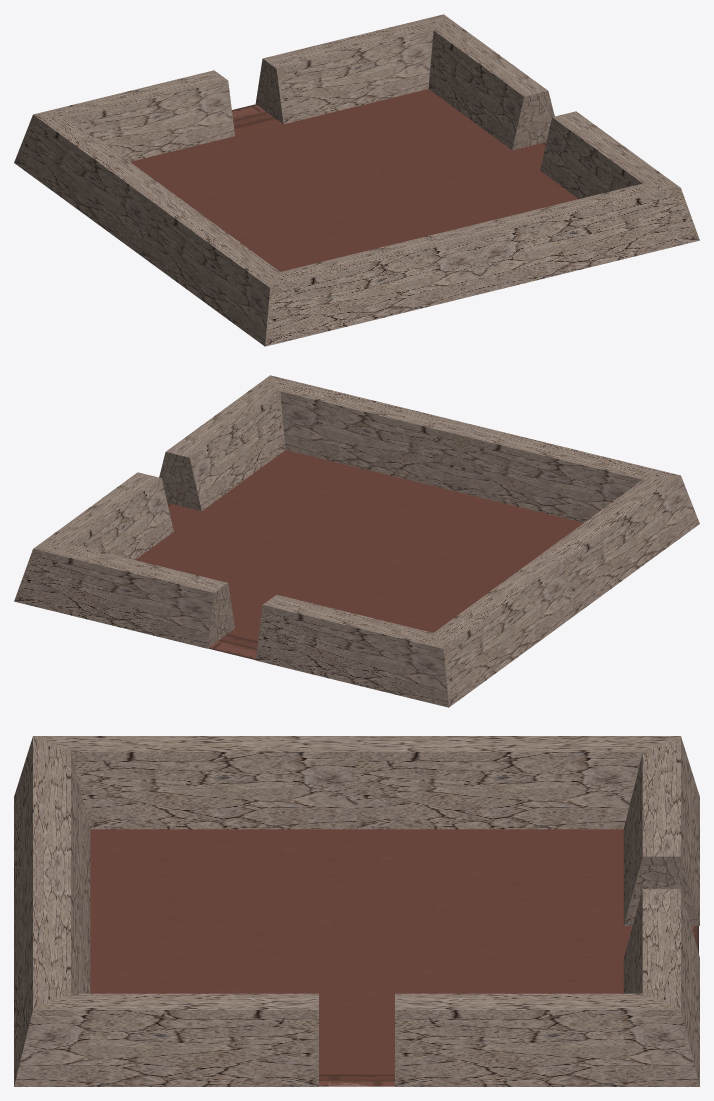
The model's file is sala_8.obj.
The picture shows the model from 3 angles, top to bottom: view 1: azimuth 30°, elevation 25°; view 2: azimuth 150°, elevation 25°; view 3: azimuth 270°, elevation 25°; orthographic projection. The views are drawn at different scales.
Visible parts, largest first — view 1: Ground_Plane, Wall.005_Cube.002, Wall.002_Cube.014, Wall.007_Cube.017, Wall.001_Cube.012, Wall.003_Cube.010, Wall.000_Cube.011, Wall.006_Cube.016, Wall.004_Cube.015; view 2: Ground_Plane, Wall.007_Cube.017, Wall.000_Cube.011, Wall.005_Cube.002, Wall.002_Cube.014, Wall.003_Cube.010, Wall.001_Cube.012, Wall.004_Cube.015, Wall.006_Cube.016; view 3: Ground_Plane, Wall.004_Cube.015, Wall.006_Cube.016, Wall.003_Cube.010, Wall.001_Cube.012, Wall.000_Cube.011, Wall.002_Cube.014, Wall.005_Cube.002, Wall.007_Cube.017.
Boxes of the visible parts, x1,y1,x2,y2 form: Ground_Plane: [130, 89, 578, 271]; Wall.005_Cube.002: [462, 183, 699, 293]; Wall.002_Cube.014: [265, 228, 482, 346]; Wall.007_Cube.017: [255, 14, 443, 124]; Wall.001_Cube.012: [14, 114, 175, 254]; Wall.003_Cube.010: [139, 195, 279, 346]; Wall.000_Cube.011: [33, 70, 234, 161]; Wall.006_Cube.016: [428, 14, 554, 150]; Wall.004_Cube.015: [540, 111, 680, 198]; Ground_Plane: [135, 450, 583, 659]; Wall.007_Cube.017: [14, 544, 234, 648]; Wall.000_Cube.011: [255, 594, 448, 707]; Wall.005_Cube.002: [270, 375, 474, 490]; Wall.002_Cube.014: [454, 425, 680, 522]; Wall.003_Cube.010: [538, 475, 699, 615]; Wall.001_Cube.012: [434, 556, 574, 707]; Wall.004_Cube.015: [159, 375, 285, 511]; Wall.006_Cube.016: [33, 472, 173, 559]; Ground_Plane: [90, 829, 698, 1086]; Wall.004_Cube.015: [14, 993, 318, 1086]; Wall.006_Cube.016: [395, 993, 699, 1086]; Wall.003_Cube.010: [33, 736, 356, 829]; Wall.001_Cube.012: [357, 736, 680, 829]; Wall.000_Cube.011: [623, 736, 699, 925]; Wall.002_Cube.014: [14, 736, 90, 941]; Wall.005_Cube.002: [14, 873, 90, 1085]; Wall.007_Cube.017: [623, 889, 699, 1085].
Bounding box in the file's own units: 18 × 2 × 18.
